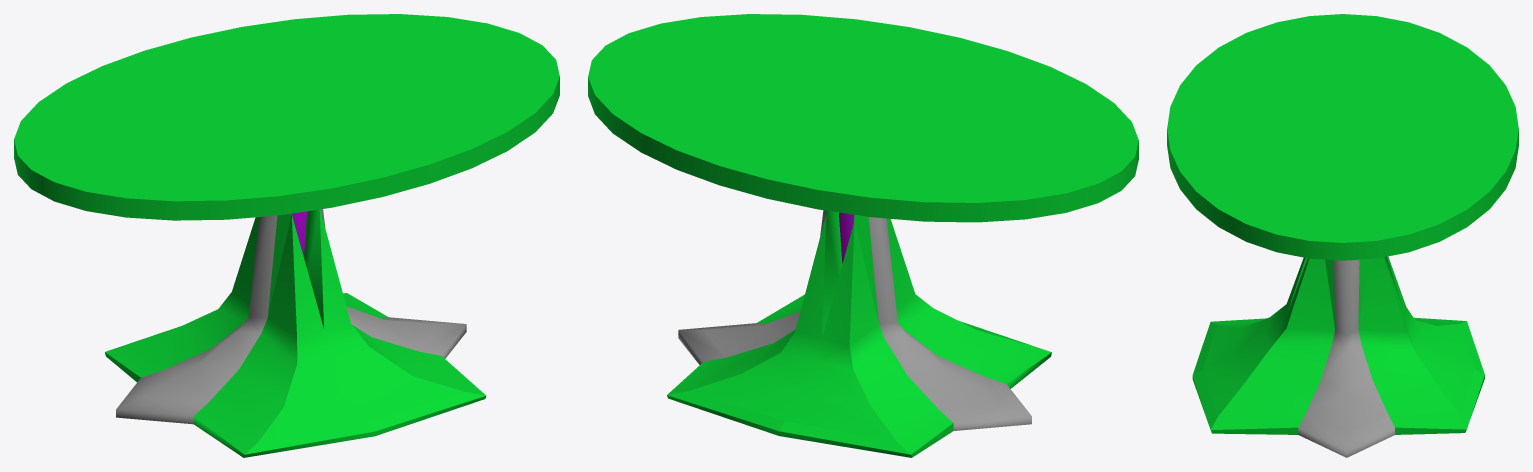
Rendered from SM_Table.FBX.
The picture shows the model from 3 angles, left to right: view 1: azimuth 30°, elevation 25°; view 2: azimuth 150°, elevation 25°; view 3: azimuth 270°, elevation 25°; orthographic projection. The views are drawn at different scales.
Parts seen in each view (by area): view 1: Table; view 2: Table; view 3: Table.
Boxes of the visible parts, x1=… form: Table: x1=14, y1=14, x2=559, y2=457; Table: x1=588, y1=14, x2=1138, y2=457; Table: x1=1167, y1=14, x2=1518, y2=457.
Bounding box in the file's own units: 2.41 × 1.22 × 1.56.
